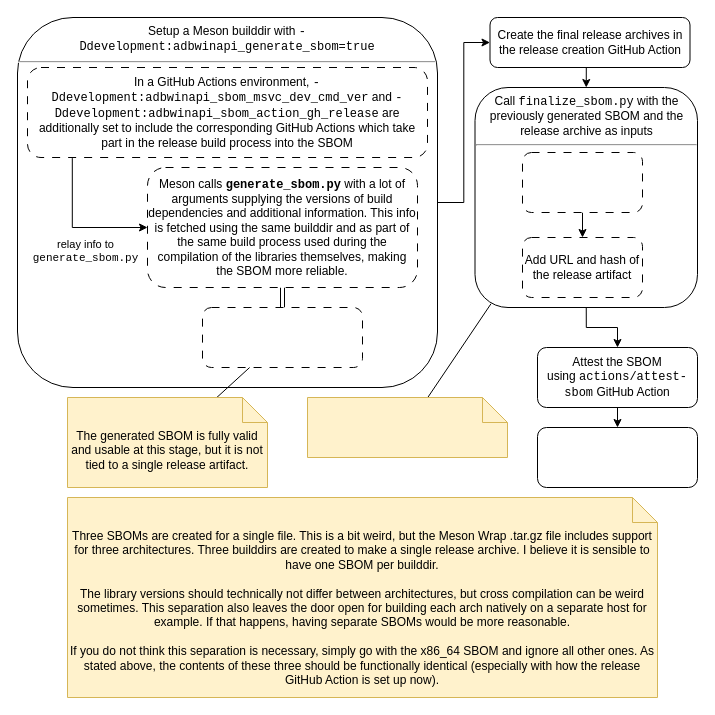
Image size: 715x715. Some labels were removed from this diagram. The centre of each missing label's shape, as x and y in pixels:
A CycloneDX JSON SBOM tied to the tag version (not to commit hash) is created: [282,337]
Change the top-level component type from "library" to "file": [582,182]
Release the SBOM file alongside the release archive it certifies: [617,457]
This is called outside of Meson.: [407,427]
